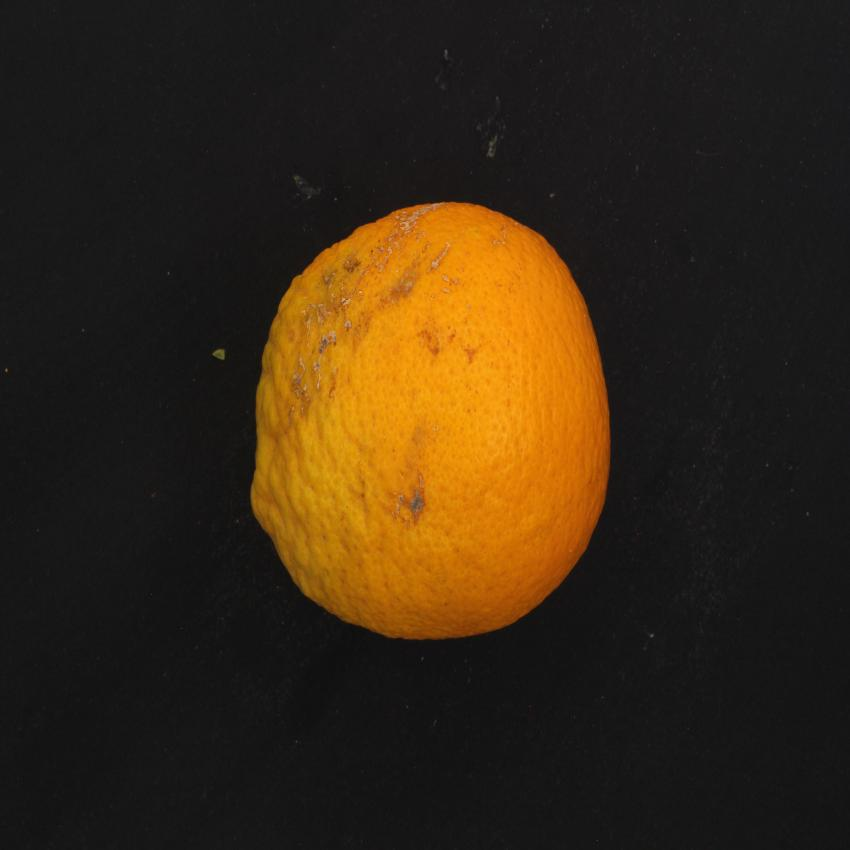Buen estado: (239, 193, 620, 653)
